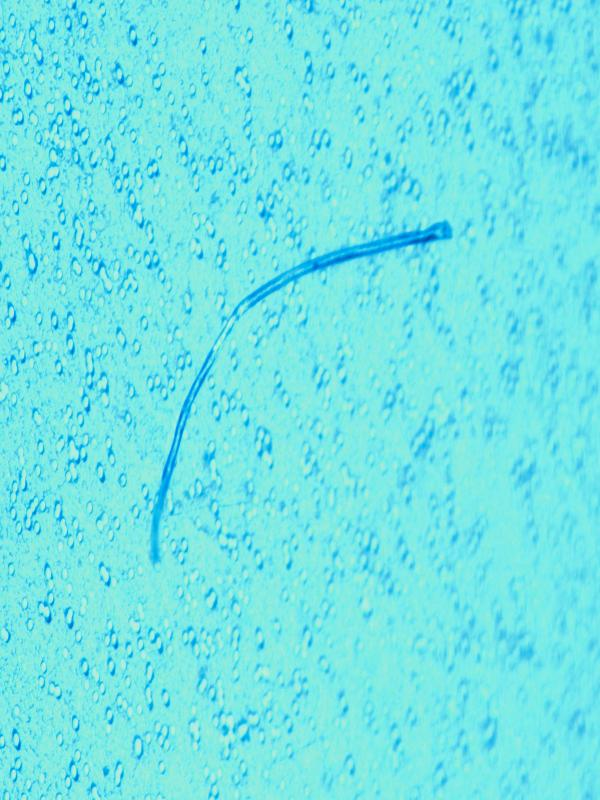microplastic: (0, 0, 600, 800), (148, 216, 454, 569)
